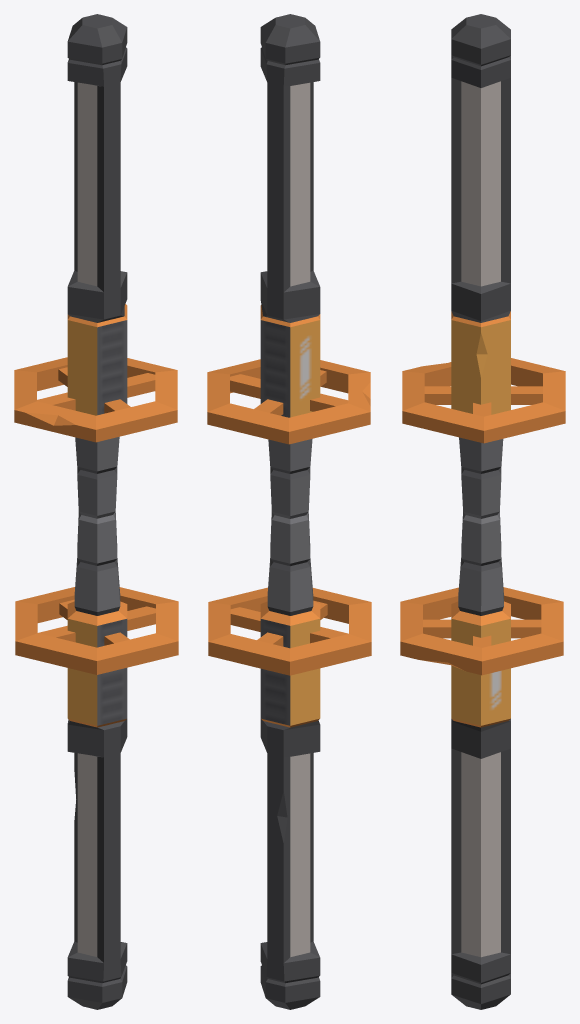
The model's file is SM_Wep_Shock_Stick_03.fbx.
The picture shows the model from 3 angles, left to right: view 1: azimuth 30°, elevation 25°; view 2: azimuth 150°, elevation 25°; view 3: azimuth 270°, elevation 25°; orthographic projection.
Visible parts, largest first — view 1: SM_Wep_Shock_Stick_03; view 2: SM_Wep_Shock_Stick_03; view 3: SM_Wep_Shock_Stick_03.
Boxes of the visible parts, x1,y1,x2,y2 form: SM_Wep_Shock_Stick_03: (14,14,178,1009); SM_Wep_Shock_Stick_03: (207,14,371,1009); SM_Wep_Shock_Stick_03: (400,14,565,1009).
Size of the model in its own units: 22.09 by 127 by 19.35.
